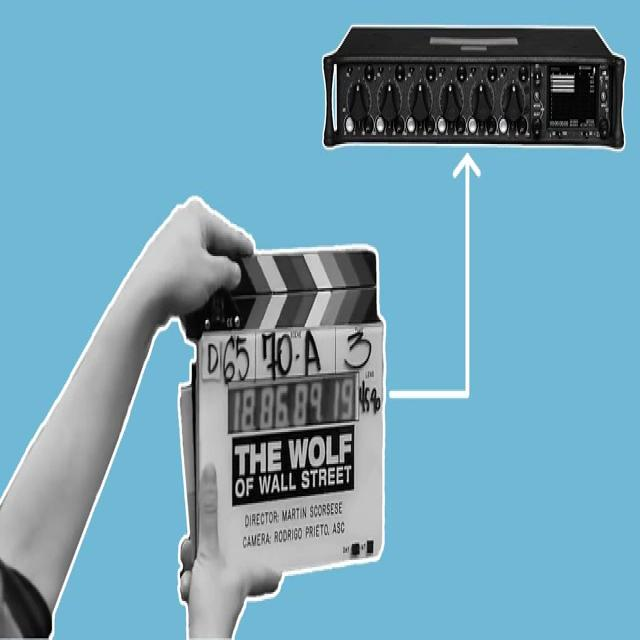Clapperboard: (176, 236, 388, 584)
